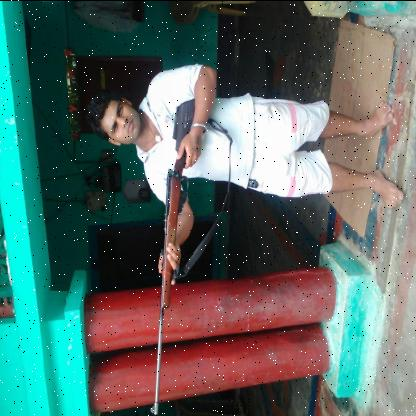rifle: (150, 92, 212, 416)
